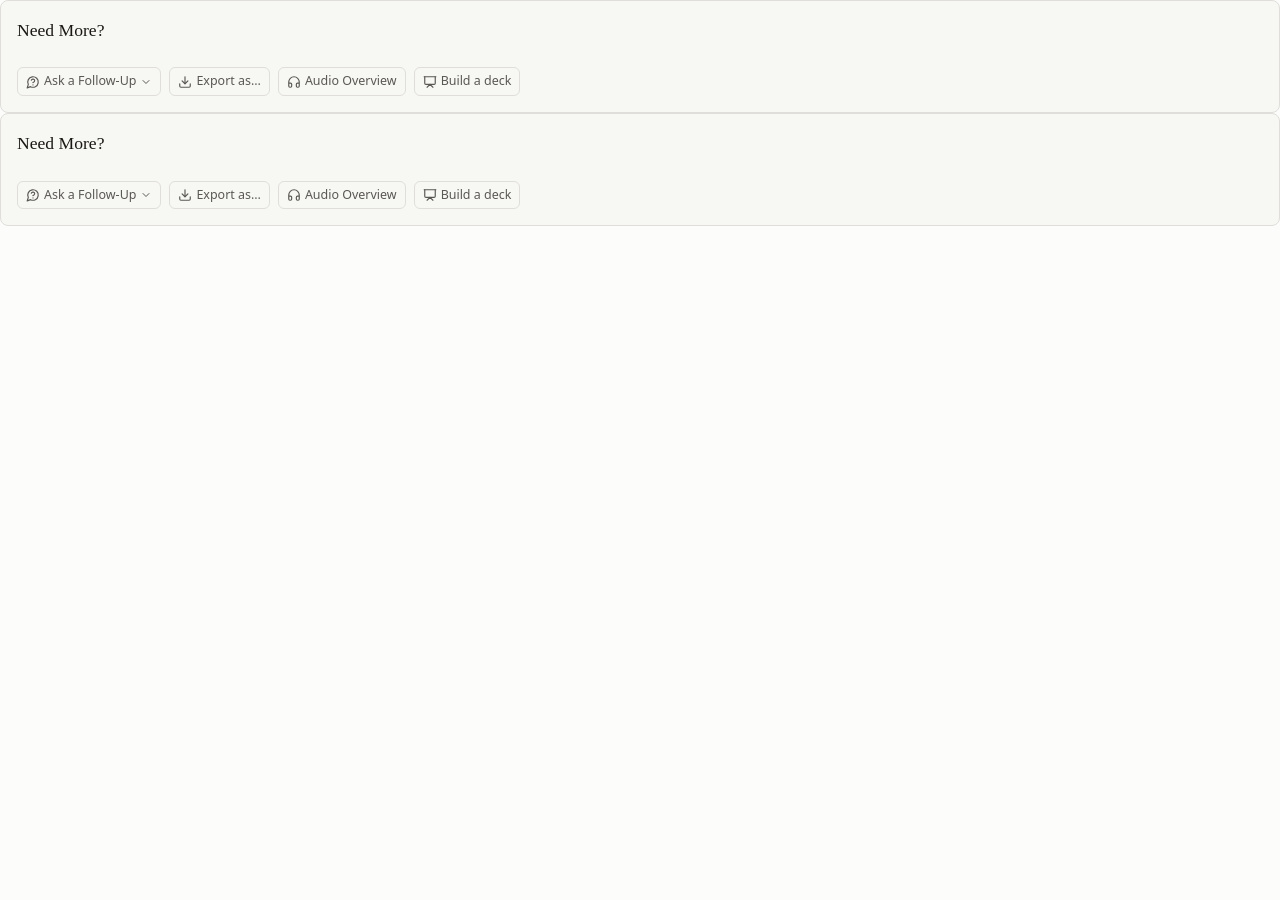
Test: AuxDialogFocus › N5: disconnected Audio opener keeps default behavior without falling back to another target
Click the 2nd button "Audio Overview". click: (342, 195)
box: [278,180,406,209]
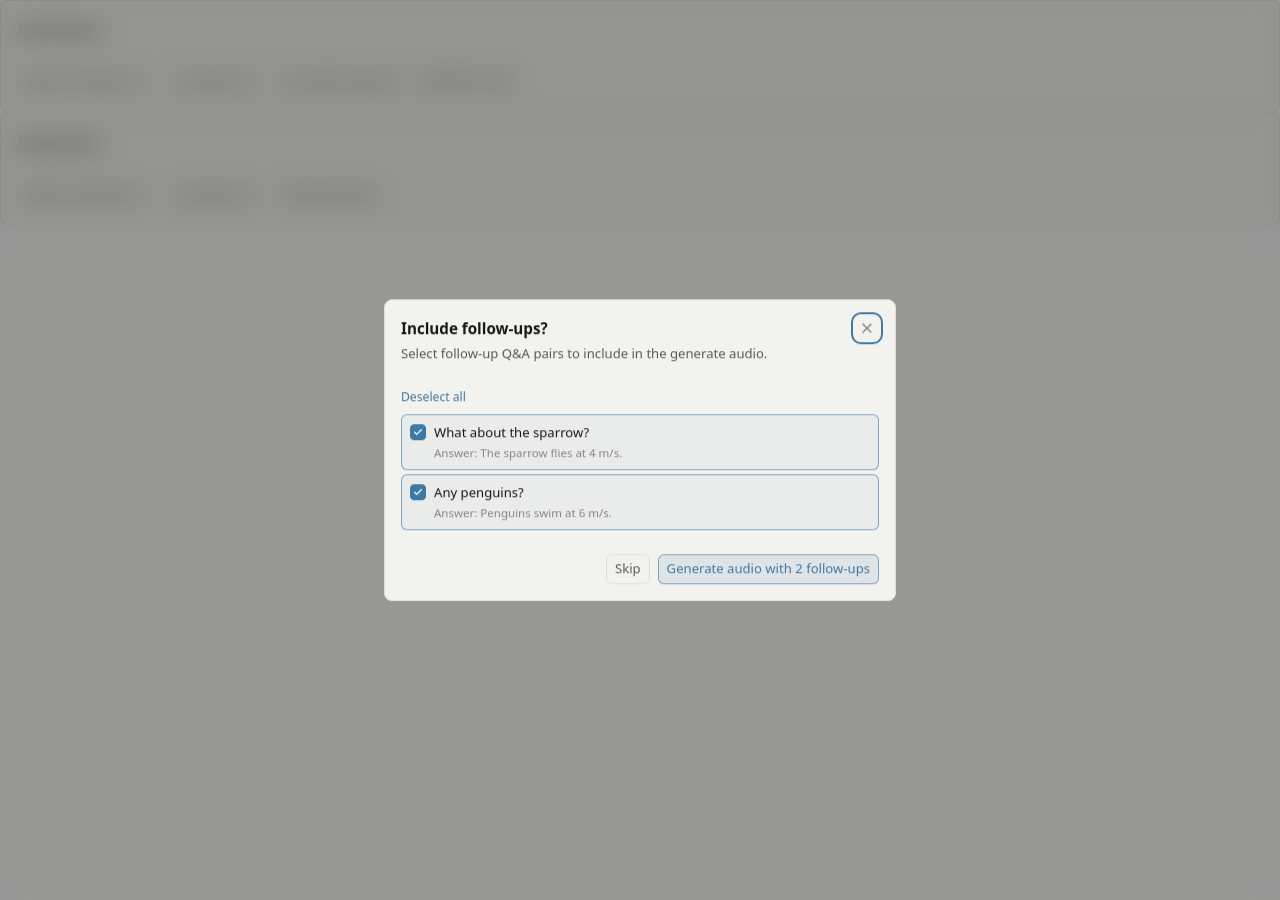
Click the button named "Close dialog". click: (867, 328)
box: [855,316,879,340]
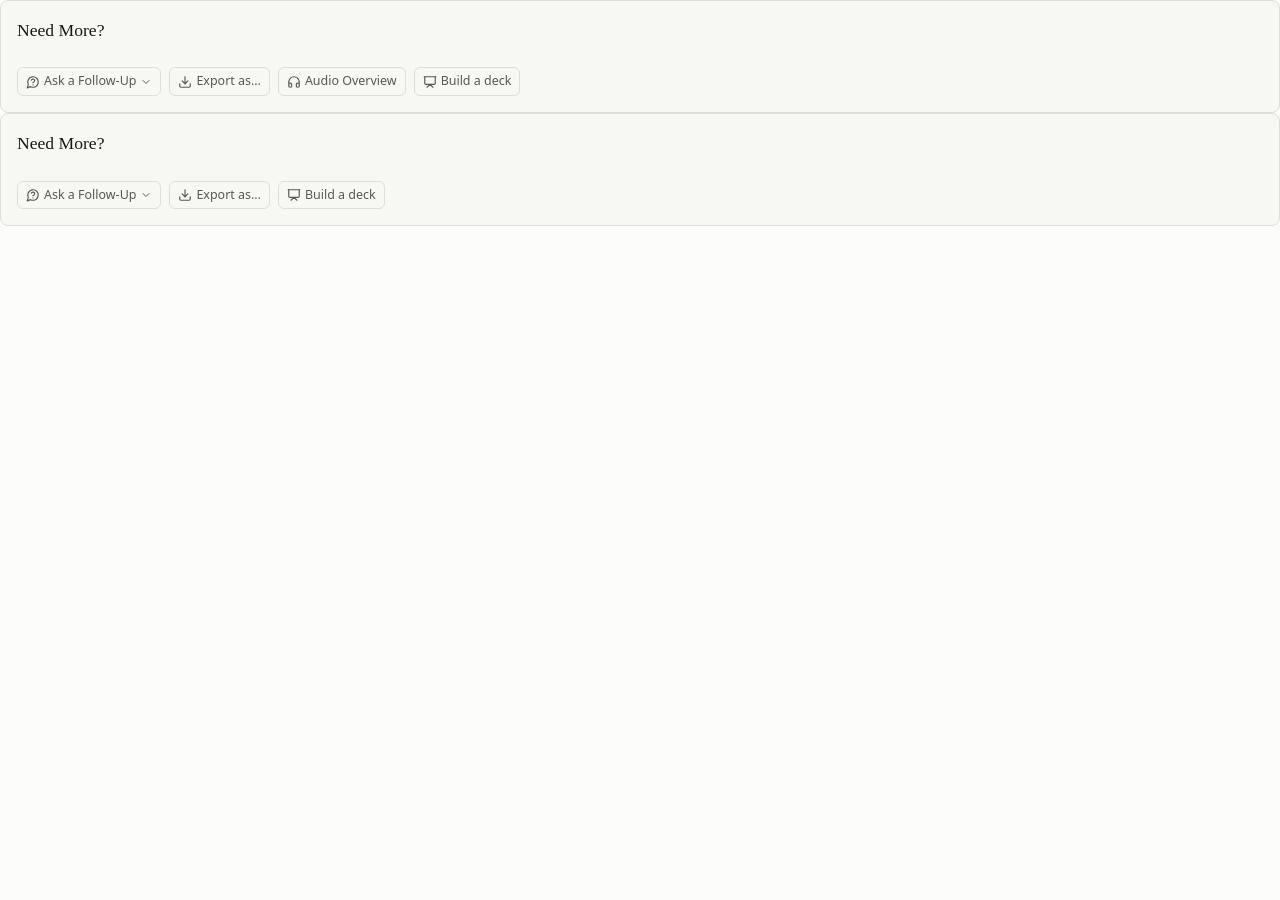
Expected: the dialog is gone
